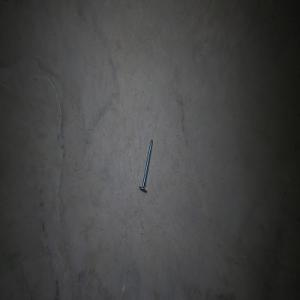Bolt: (138, 138, 153, 191)
